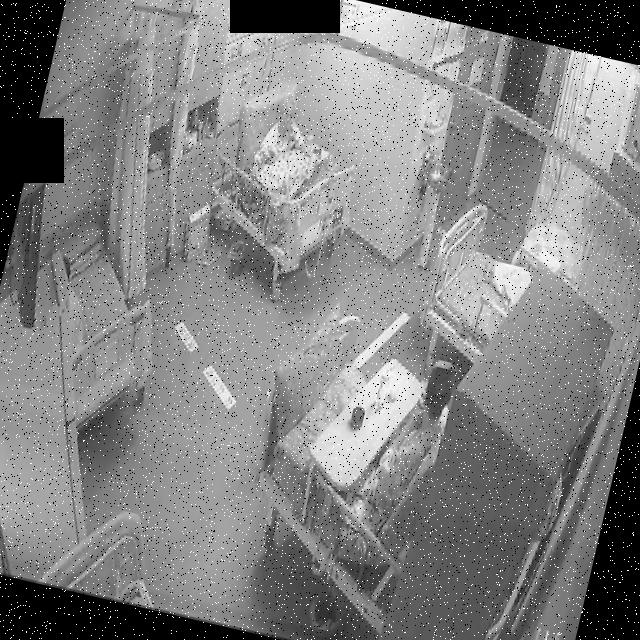bed: (228, 302, 464, 600), (190, 89, 382, 308), (20, 218, 181, 442), (412, 194, 544, 372)
patient: (324, 329, 464, 536), (256, 90, 314, 169)
sit: (322, 330, 466, 542), (254, 92, 314, 175)
